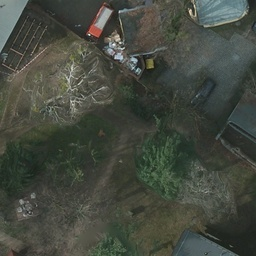car: (191, 76, 215, 110)
